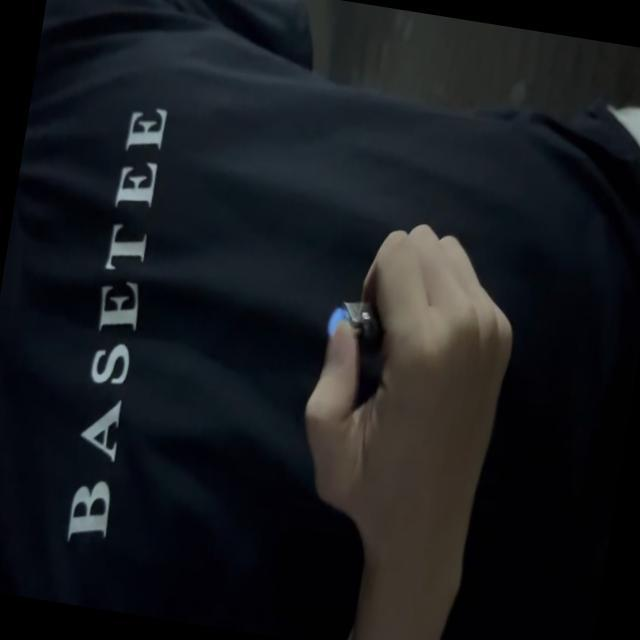Fire: (327, 307, 345, 335)
